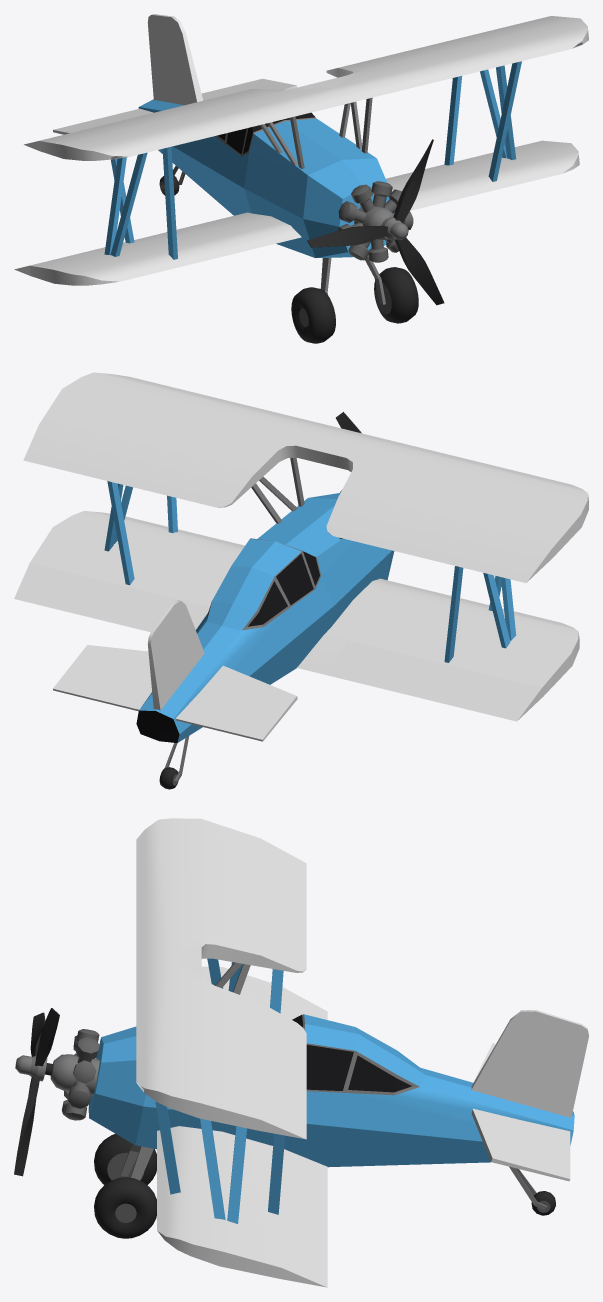
Rendered from Middle_Airplane_01.fbx.
The picture shows the model from 3 angles, top to bottom: view 1: azimuth 30°, elevation 25°; view 2: azimuth 150°, elevation 25°; view 3: azimuth 270°, elevation 25°; orthographic projection. The views are drawn at different scales.
Parts seen in each view (by area): view 1: Middle_Airplane_01, Middle_Airplane_01_Prop, Middle_Airplane_01_Aileron_RR; view 2: Middle_Airplane_01, Middle_Airplane_01_Aileron_FR, Middle_Airplane_01_Aileron_FL, Middle_Airplane_01_Aileron_RR, Middle_Airplane_01_Aileron_RL; view 3: Middle_Airplane_01, Middle_Airplane_01_Aileron_FL, Middle_Airplane_01_Prop, Middle_Airplane_01_Aileron_RL, Middle_Airplane_01_Aileron_FR.
Part boxes in pixels (box(x1,y1,x2,y2)): Middle_Airplane_01: box(24, 14, 588, 343); Middle_Airplane_01_Prop: box(307, 139, 444, 305); Middle_Airplane_01_Aileron_RR: box(53, 110, 144, 134); Middle_Airplane_01: box(23, 372, 588, 789); Middle_Airplane_01_Aileron_FR: box(327, 640, 543, 721); Middle_Airplane_01_Aileron_FL: box(14, 563, 209, 632); Middle_Airplane_01_Aileron_RR: box(181, 705, 272, 741); Middle_Airplane_01_Aileron_RL: box(53, 676, 145, 709); Middle_Airplane_01: box(50, 818, 588, 1278); Middle_Airplane_01_Aileron_FL: box(279, 1162, 327, 1287); Middle_Airplane_01_Prop: box(14, 1008, 59, 1176); Middle_Airplane_01_Aileron_RL: box(543, 1127, 570, 1181); Middle_Airplane_01_Aileron_FR: box(281, 987, 327, 1019).
Size of the model in its own units: 1311 by 556 by 1119.
